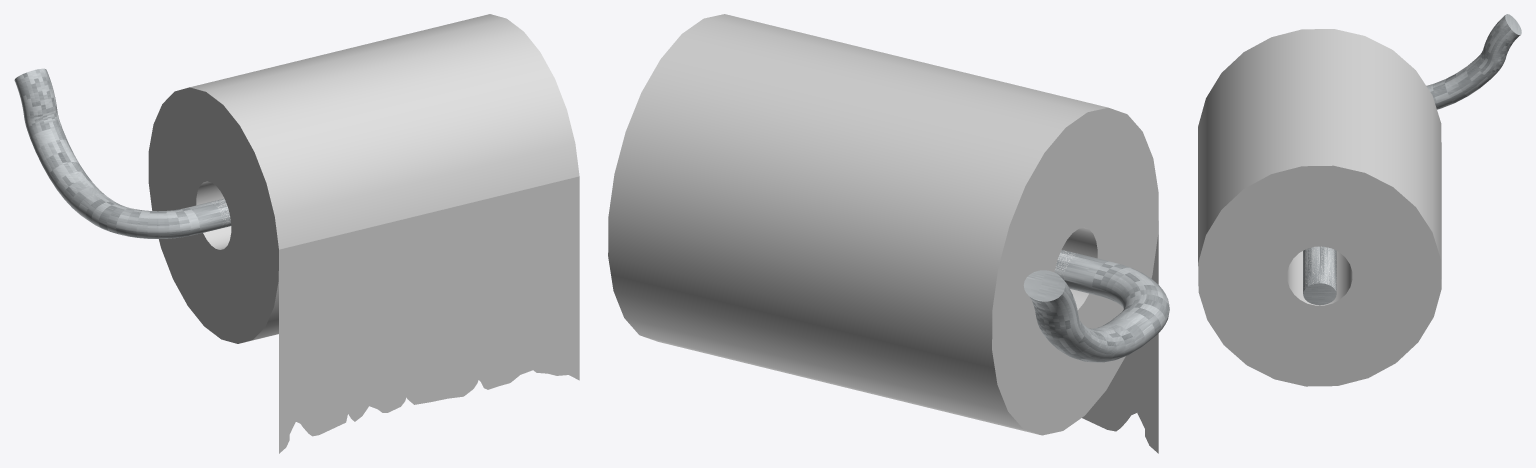
The model's file is paperHolder.dae.
3 views of the same model, side by side, from view 1: azimuth 30°, elevation 25°; view 2: azimuth 150°, elevation 25°; view 3: azimuth 270°, elevation 25° (orthographic). The views are drawn at different scales.
Parts seen in each view (by area): view 1: SketchUp (×3); view 2: SketchUp (×4); view 3: SketchUp (×4).
Boxes of the visible parts, bbox=[...] form: SketchUp (×3): bbox=[14, 14, 579, 453]; SketchUp (×4): bbox=[608, 14, 1169, 453]; SketchUp (×4): bbox=[1198, 15, 1520, 386].
Size of the model in its own units: 99.21 by 68.47 by 67.24.
